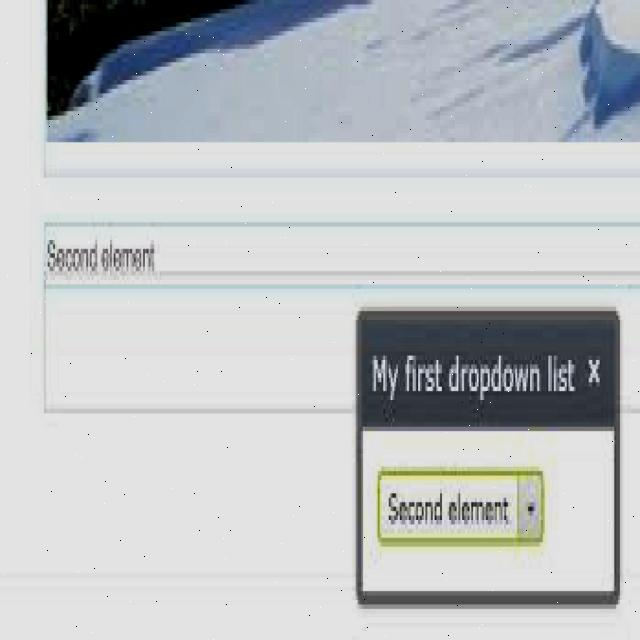button: (587, 356, 602, 387)
dropdownMenu: (377, 471, 545, 543)
input: (163, 236, 640, 286)
label: (364, 348, 583, 403), (42, 232, 156, 284)
